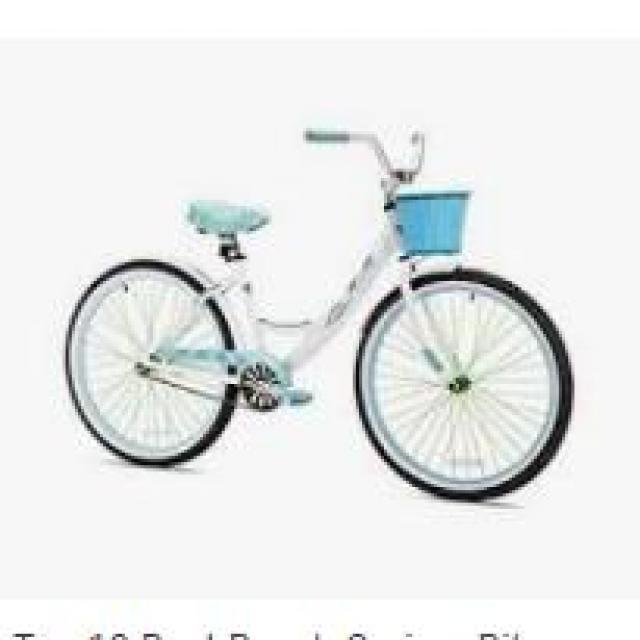bicycle: (54, 114, 563, 523)
